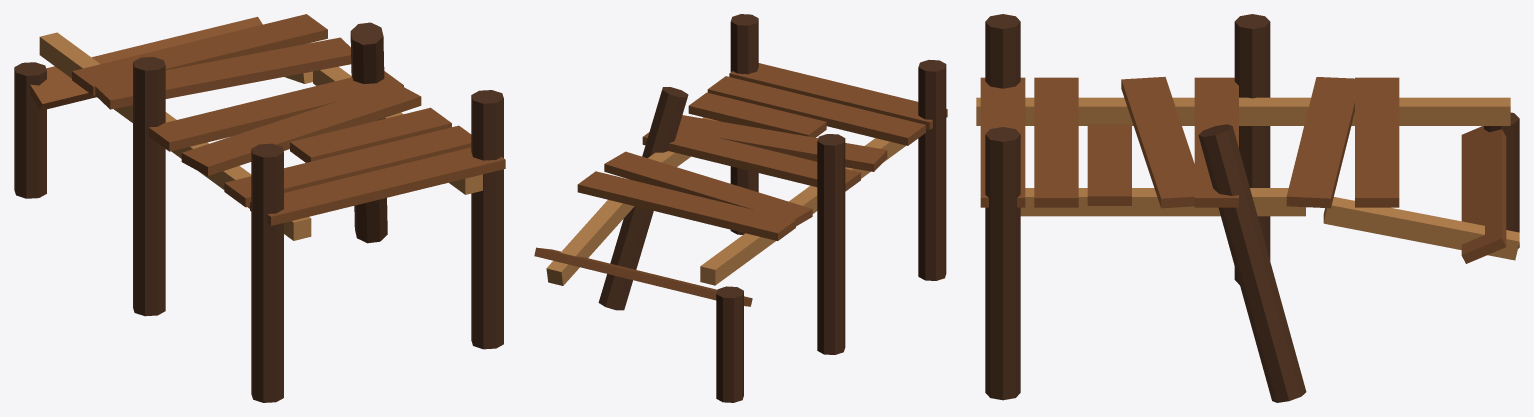
Rendered from dokkruins.fbx.
3 views of the same model, side by side, from view 1: azimuth 30°, elevation 25°; view 2: azimuth 150°, elevation 25°; view 3: azimuth 270°, elevation 25° (orthographic). The views are drawn at different scales.
Parts seen in each view (by area): view 1: Cube; view 2: Cube; view 3: Cube.
Part boxes in pixels (<box>): Cube: <box>14,14,505,402</box>; Cube: <box>534,14,947,402</box>; Cube: <box>976,14,1519,402</box>.
Size of the model in its own units: 1.83 by 1.6 by 3.05.
Materials: 1 (1 with a texture image).
